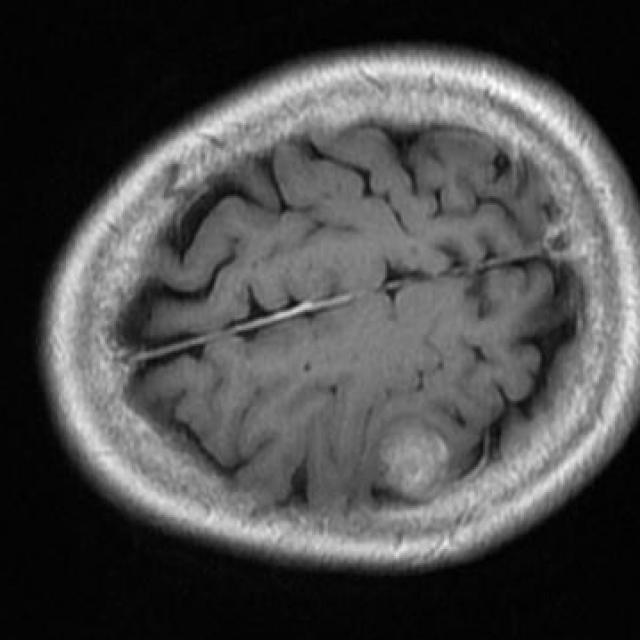meningioma: (385, 426, 446, 494)
